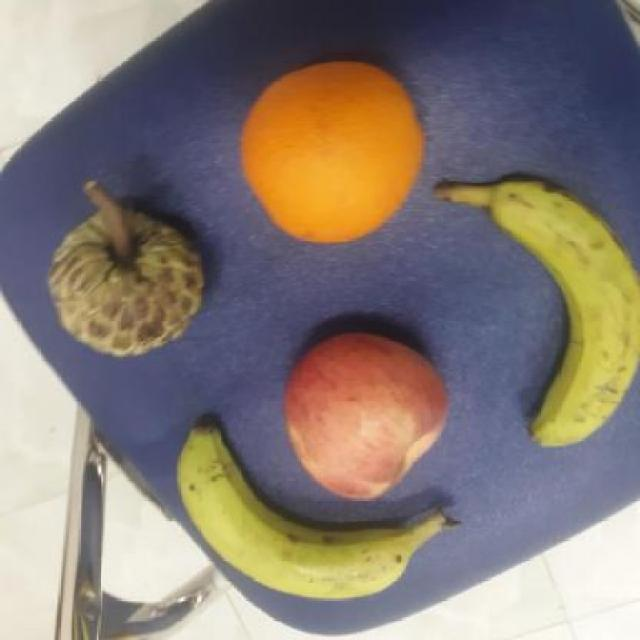apple: (280, 315, 449, 504)
banana: (161, 428, 458, 608), (467, 163, 639, 460)
oren: (241, 59, 427, 250)
sugar apple: (46, 179, 208, 356)
